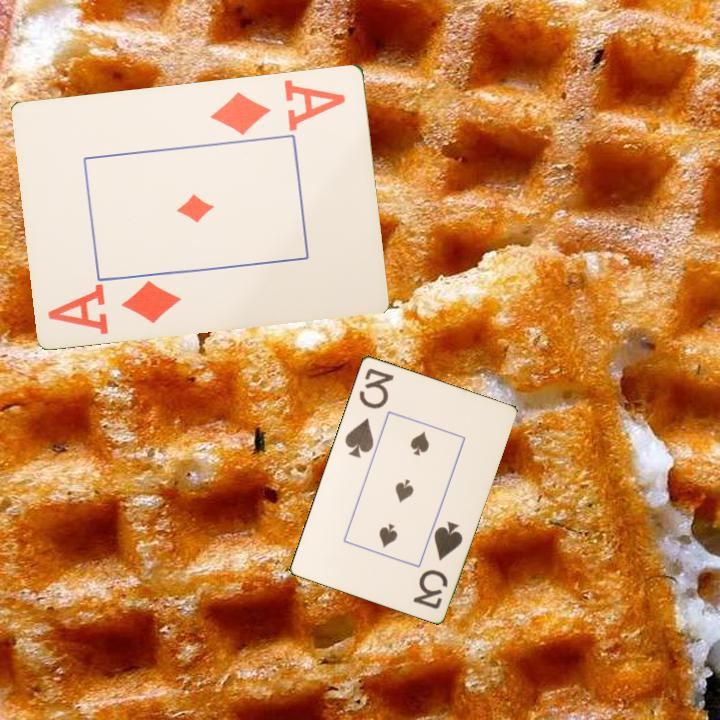3s: (341, 364, 397, 461), (409, 517, 465, 612)
Ad: (207, 75, 349, 137), (44, 276, 185, 337)
